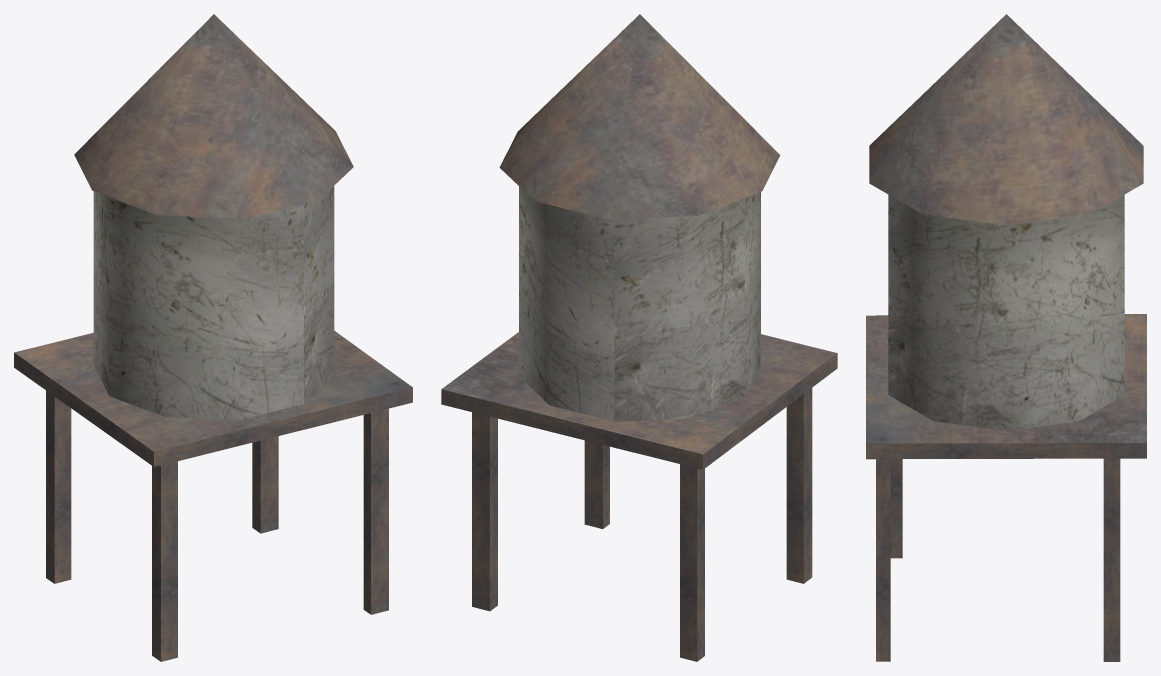
File: waterTower.FBX
3 renders of one model, left to right at view 1: azimuth 30°, elevation 25°; view 2: azimuth 150°, elevation 25°; view 3: azimuth 270°, elevation 25°, orthographic. The views are drawn at different scales.
Visible parts, largest first — view 1: waterTower; view 2: waterTower; view 3: waterTower.
Boxes of the visible parts, x1,y1,x2,y2 form: waterTower: (14, 14, 412, 661); waterTower: (441, 14, 837, 661); waterTower: (866, 14, 1146, 661).
Size of the model in its own units: 263 by 554 by 238.
